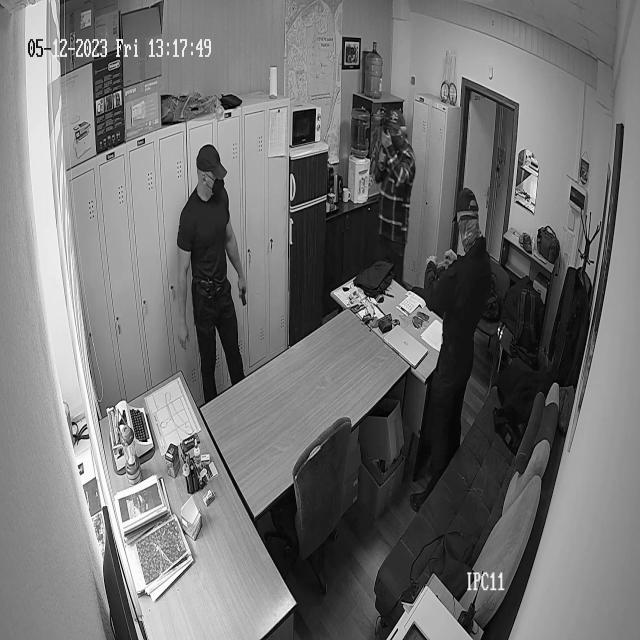gun: (379, 118, 389, 168)
person: (408, 188, 493, 519), (176, 144, 250, 404)
person with a gun: (373, 104, 416, 284)
